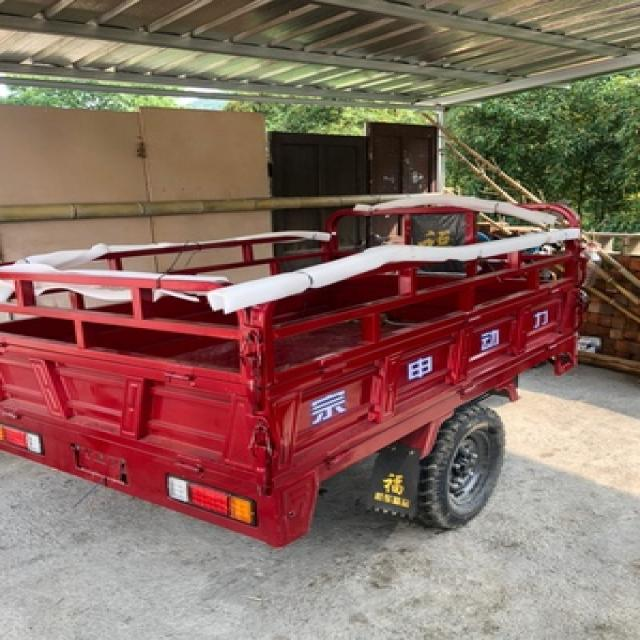tricycle: (9, 188, 586, 546)
